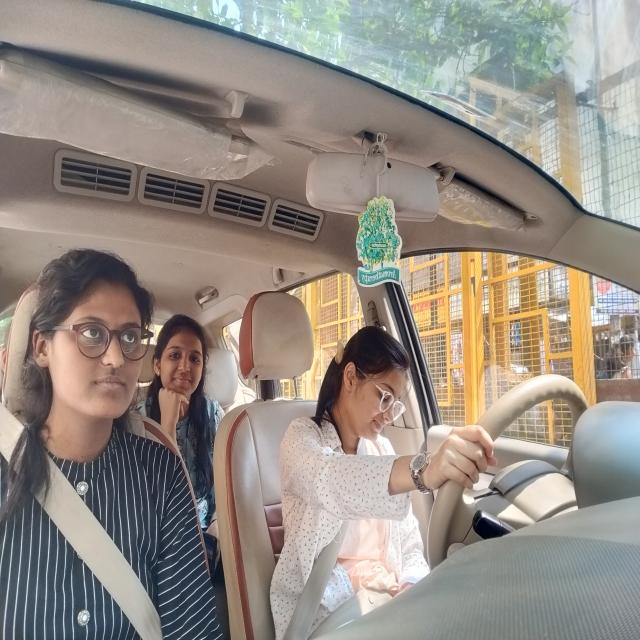drowsy: (336, 316, 416, 450)
person: (37, 247, 152, 435), (157, 314, 210, 416)
